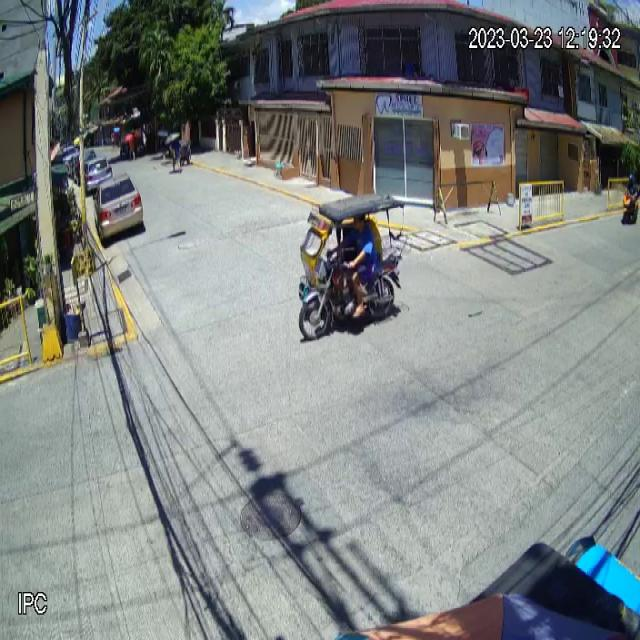Tricycle: (298, 193, 408, 342)
